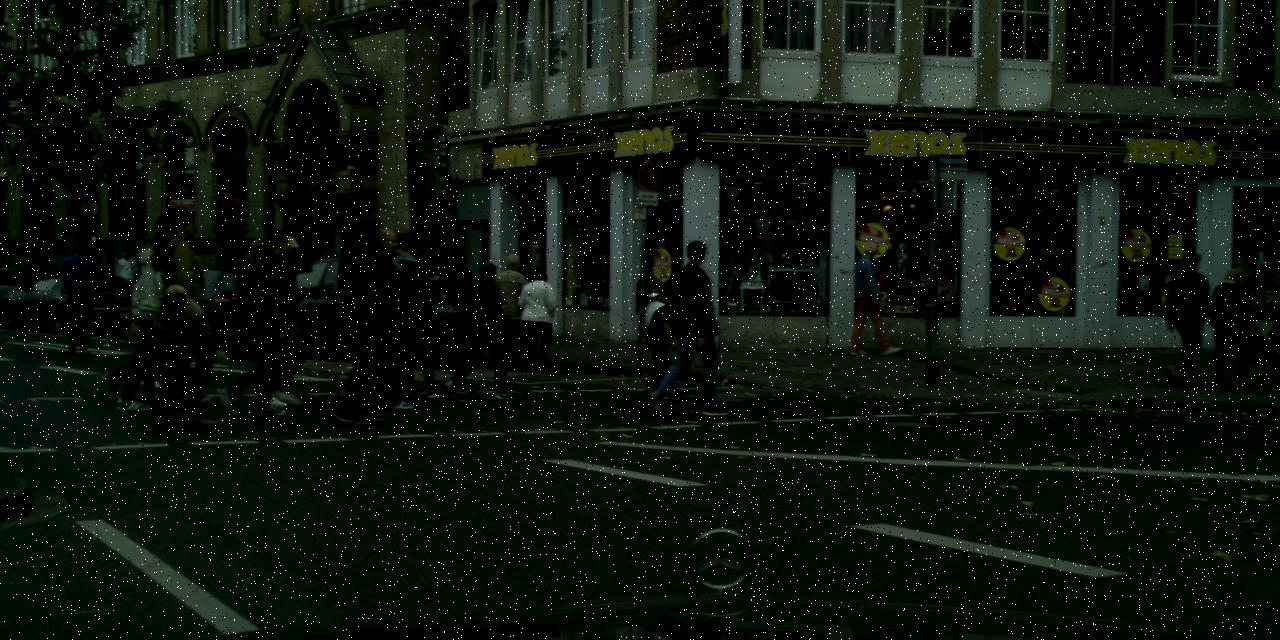ped: (138, 204, 228, 424), (322, 213, 406, 421), (218, 237, 289, 411), (244, 229, 314, 404), (342, 230, 412, 402), (655, 240, 725, 410), (357, 232, 425, 398), (385, 233, 451, 394), (105, 240, 169, 398), (139, 264, 197, 406), (454, 261, 509, 395), (1160, 250, 1214, 382), (1208, 268, 1256, 388), (488, 254, 536, 368), (636, 281, 682, 397), (850, 242, 896, 352), (58, 239, 102, 350), (517, 265, 557, 366), (112, 249, 139, 317), (81, 250, 108, 318)
